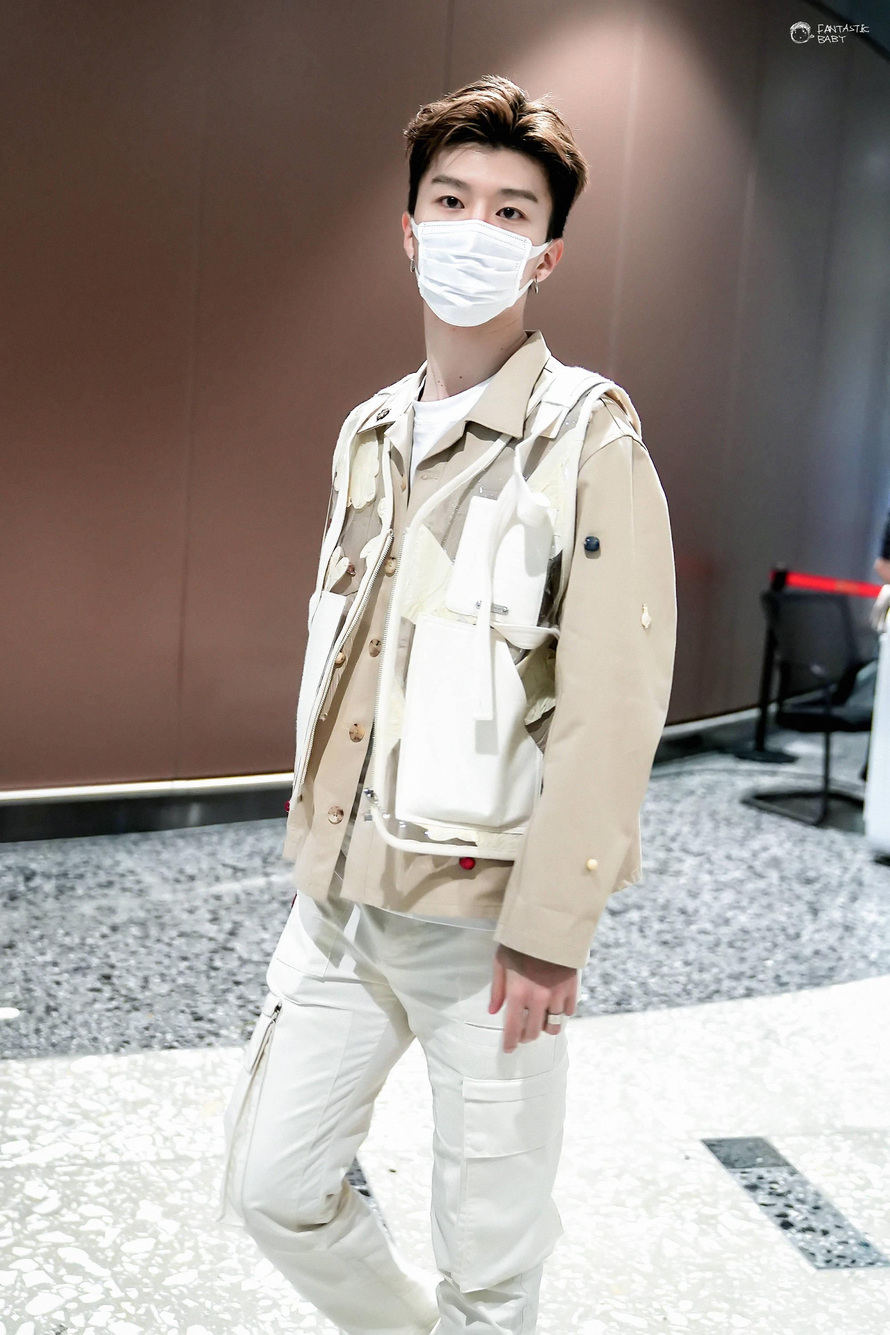OK: (413, 169, 537, 327)
